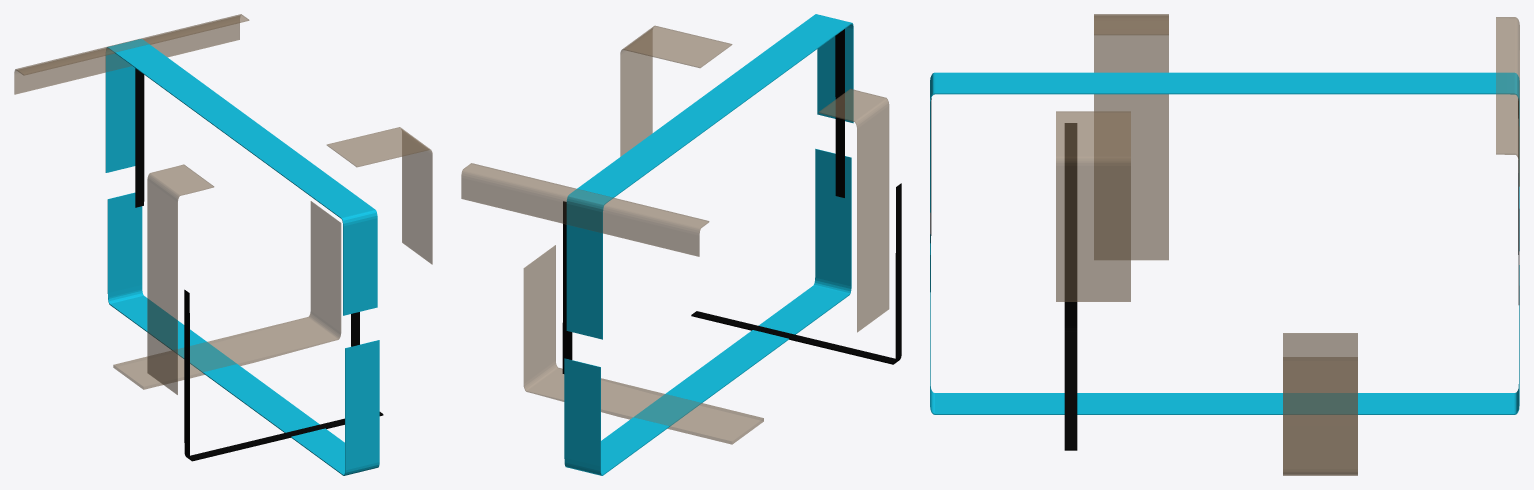
The model's file is tape_open_7.fbx.
The picture shows the model from 3 angles, left to right: view 1: azimuth 30°, elevation 25°; view 2: azimuth 150°, elevation 25°; view 3: azimuth 270°, elevation 25°; orthographic projection. The views are drawn at different scales.
Parts seen in each view (by area): view 1: tape_0.013, 평면.052, 평면.046, 평면.045, 평면.047, 평면.049, 평면.053; view 2: tape_0.013, 평면.052, 평면.047, 평면.046, 평면.045, 평면.049, 평면.050, 평면.053; view 3: tape_0.013, 평면.046, 평면.045, 평면.052, 평면.049, 평면.047.
Boxes of the visible parts, x1,y1,x2,y2 form: tape_0.013: (105, 39, 379, 475); 평면.052: (113, 201, 341, 389); 평면.046: (147, 164, 213, 394); 평면.045: (327, 127, 432, 264); 평면.047: (14, 14, 249, 94); 평면.049: (184, 289, 383, 461); 평면.053: (135, 68, 144, 207); tape_0.013: (564, 14, 853, 475); 평면.052: (523, 245, 763, 444); 평면.047: (461, 163, 709, 256); 평면.046: (818, 89, 889, 332); 평면.045: (620, 25, 732, 156); 평면.049: (691, 183, 901, 364); 평면.050: (835, 29, 844, 197); 평면.053: (562, 201, 572, 373); tape_0.013: (930, 72, 1519, 414); 평면.046: (1094, 14, 1168, 260); 평면.045: (1056, 111, 1130, 301); 평면.052: (1283, 333, 1357, 475); 평면.049: (1064, 123, 1077, 450); 평면.047: (1496, 17, 1519, 186).
Size of the model in its own units: 146 by 152 by 251.
